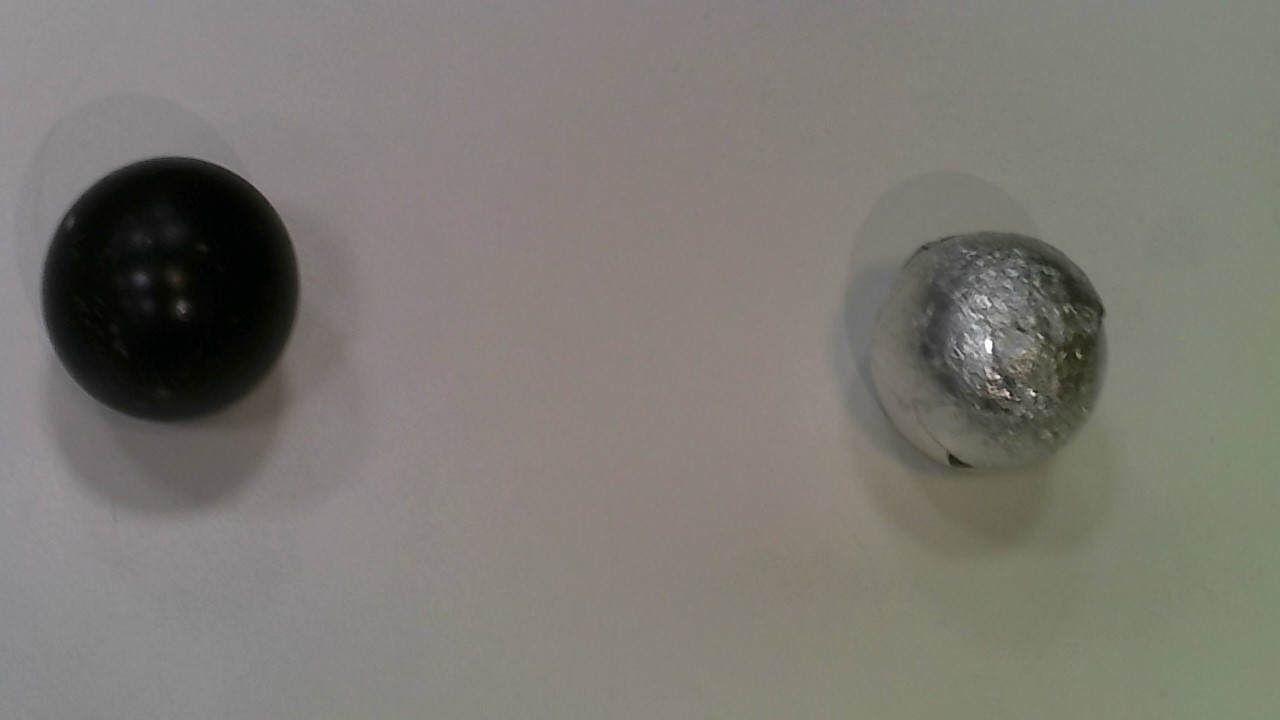black_ball: (26, 149, 311, 429)
silver_ball: (850, 219, 1110, 479)
